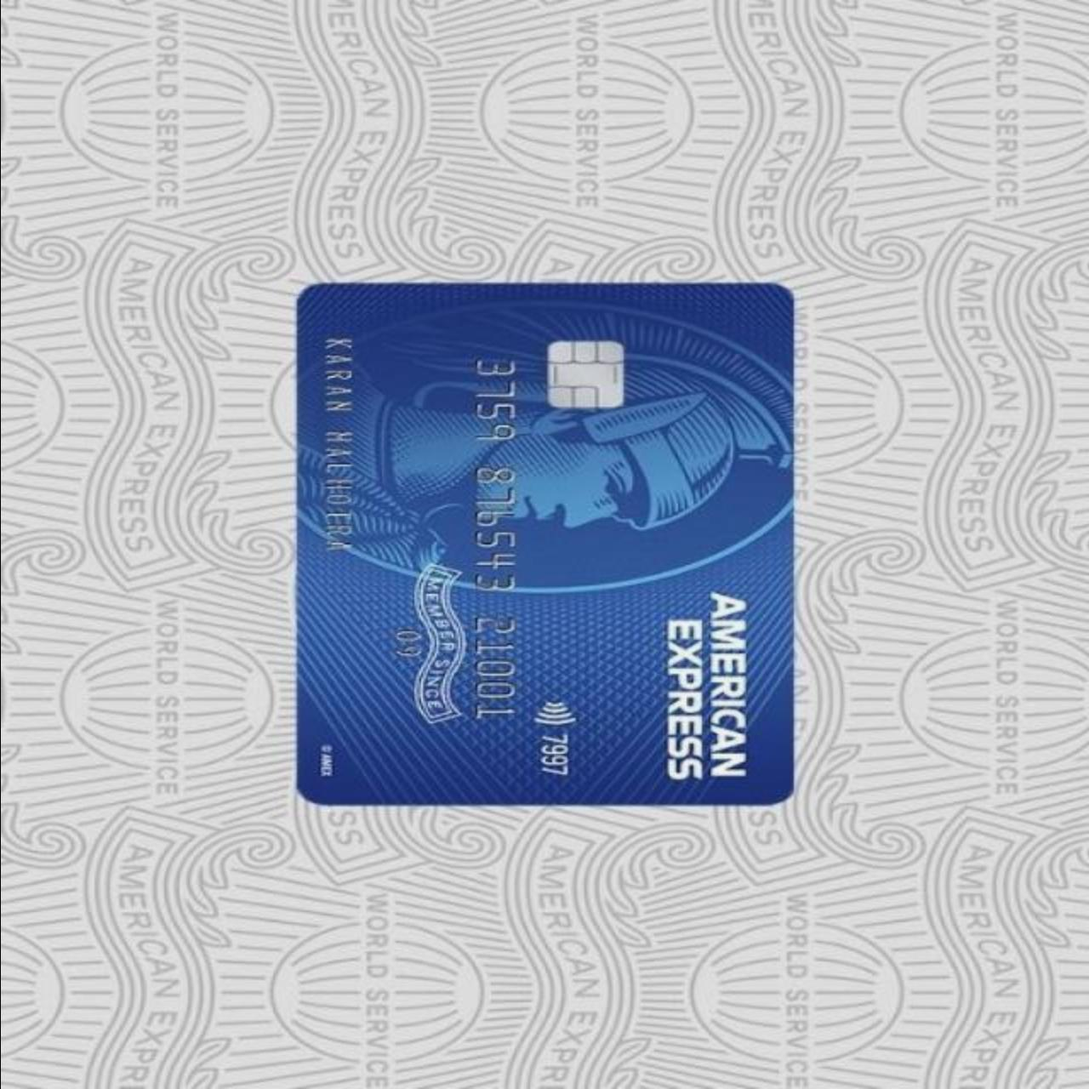credit_card: (286, 272, 810, 820)
